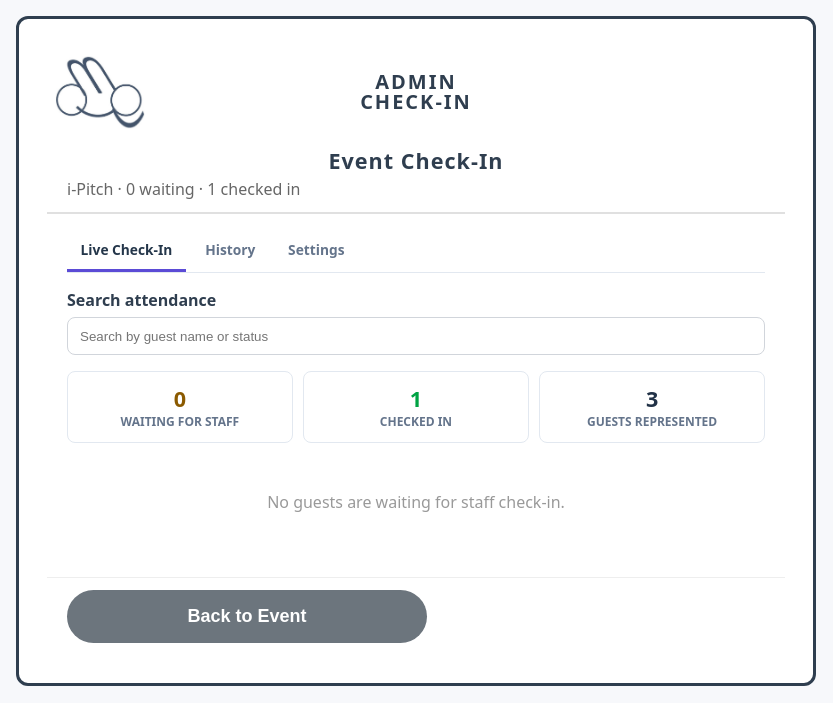
Test: AdminEventCheckIns Eventbrite import workflow › shows persisted additional attendees within one primary history entry
Click the button "History".
click(230, 251)  # box [192,230,269,272]
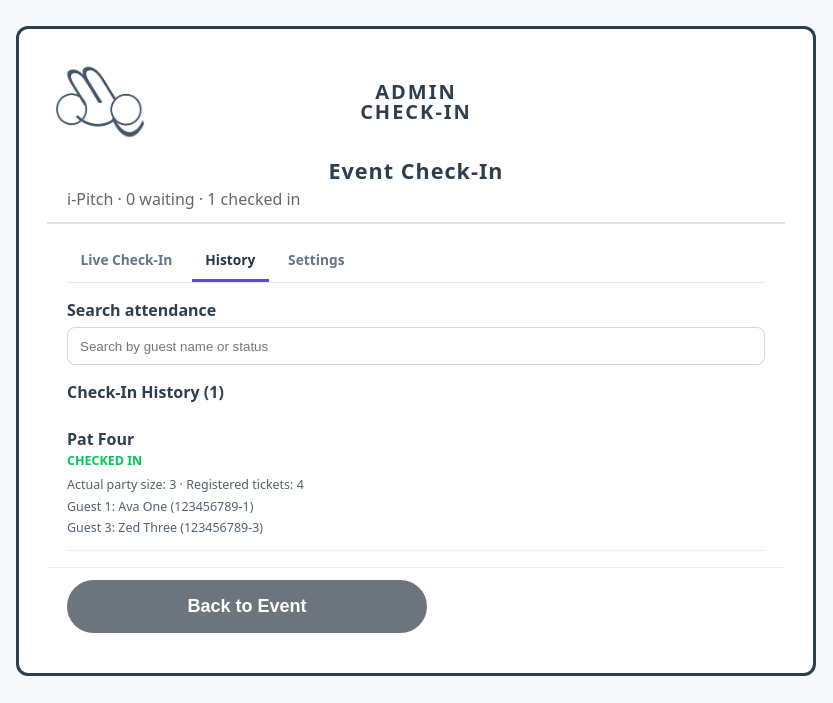
Expected: the heading "Check-In History (1)" is shown, [67,381,224,403]
Expected: the text "Pat Four" is shown, [67,428,134,450]
Expected: the text "Actual party size: 3 · Registered tickets: 4" is shown, [67,476,304,494]
